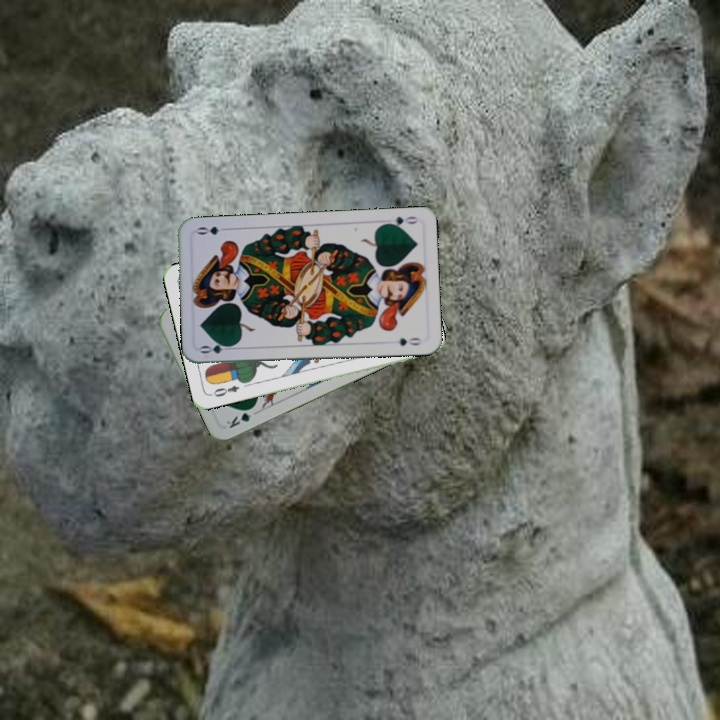EO: (206, 381, 242, 399)
GK: (222, 402, 258, 431)
GO: (380, 212, 420, 230), (197, 340, 237, 356)
